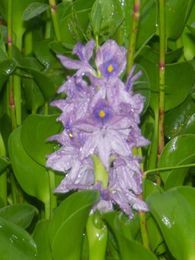water_hyacinth: (0, 1, 195, 259)
